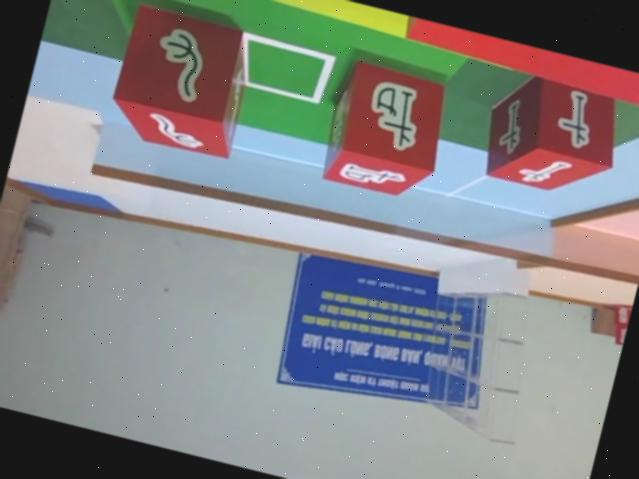R2 Real: (103, 3, 258, 160), (477, 66, 631, 202), (320, 56, 454, 204)
